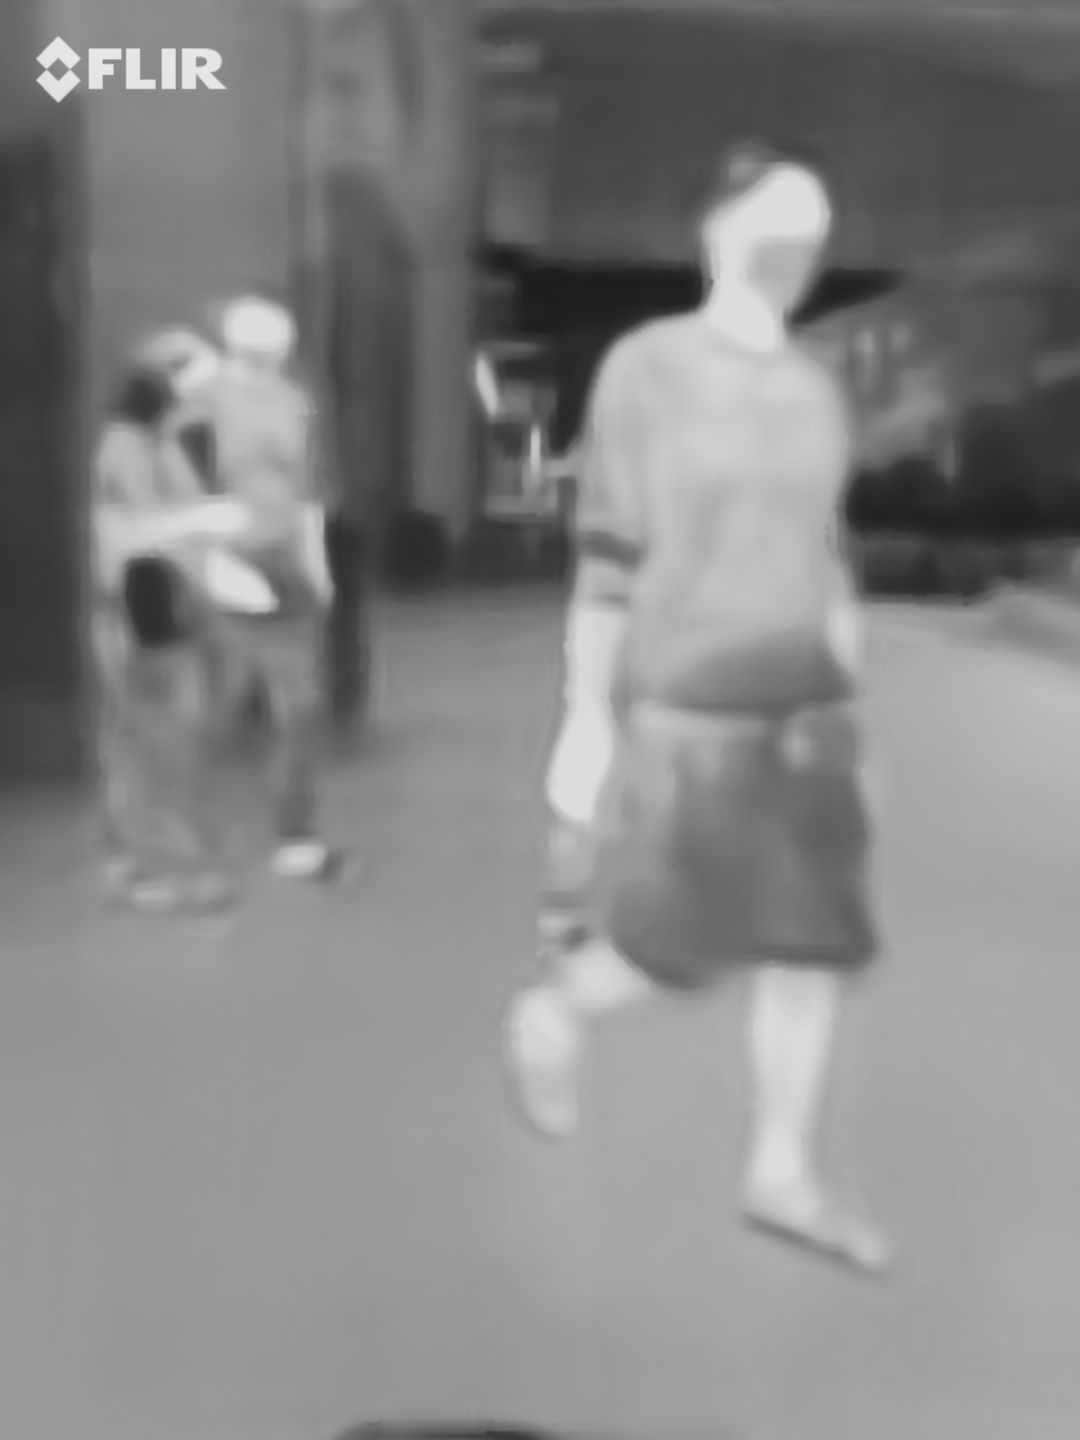head: (698, 124, 832, 334)
